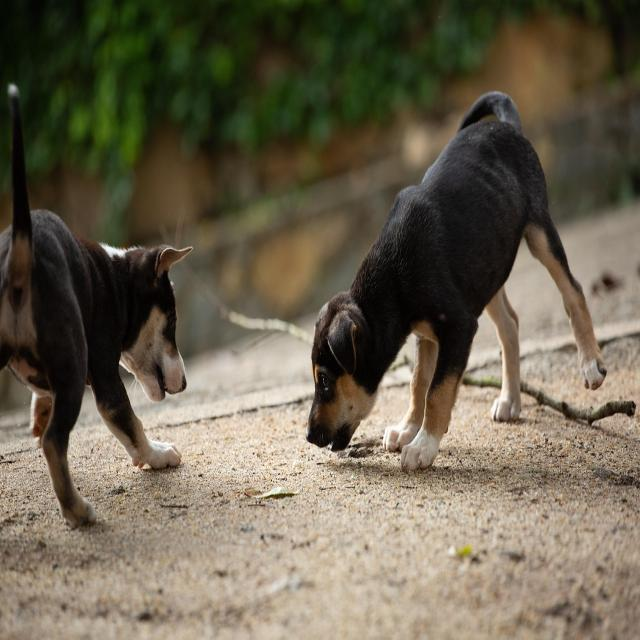dog: (305, 87, 609, 472), (0, 80, 188, 528)
